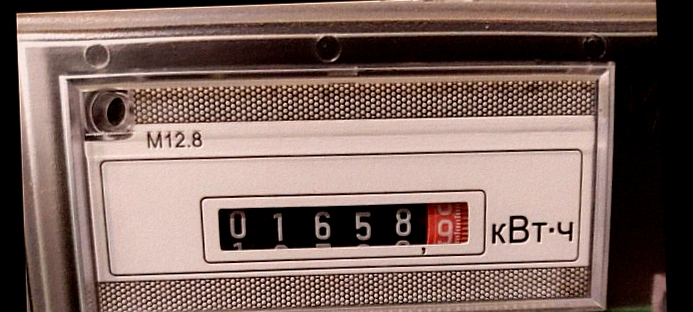0: (227, 209, 248, 239)
1: (270, 210, 288, 243)
5: (352, 209, 374, 241)
6: (312, 207, 333, 241)
8: (393, 205, 414, 237)
9: (433, 217, 455, 246)
screen: (190, 178, 493, 271)
